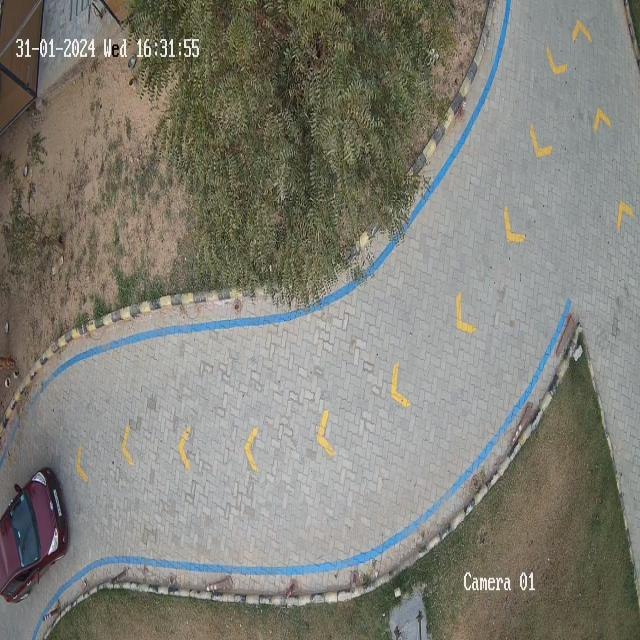car: (0, 467, 68, 602)
